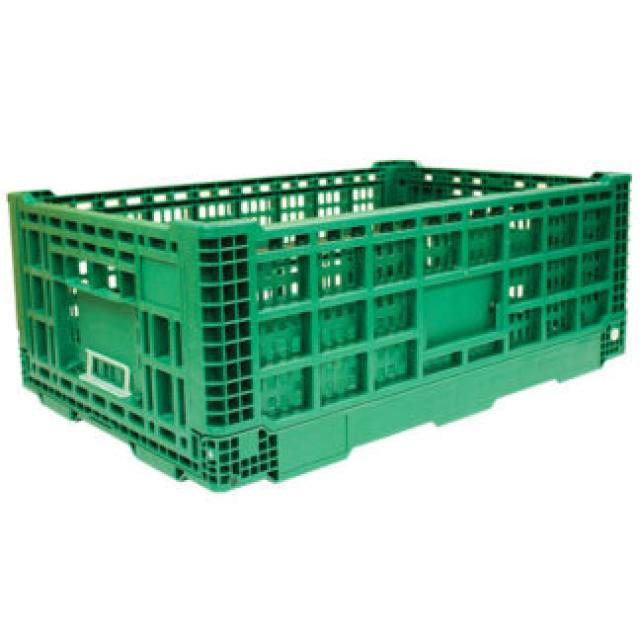basket: (4, 153, 632, 500)
